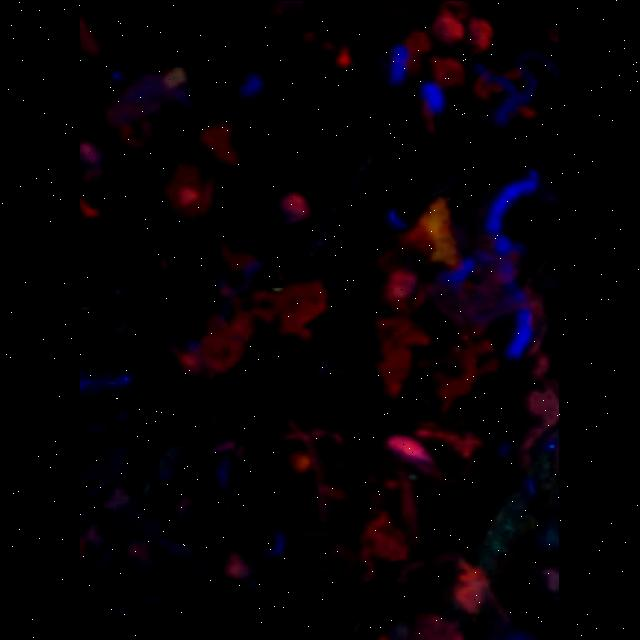Fragment: (176, 280, 328, 376)
